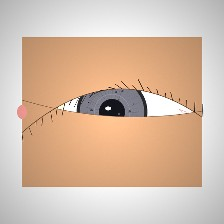pinguecula_lesion: (41, 90, 74, 117)
